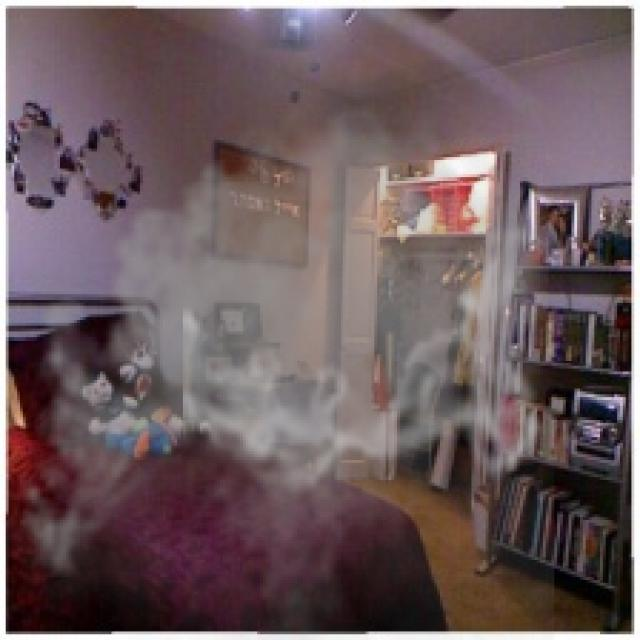smoke: (3, 83, 557, 637)
